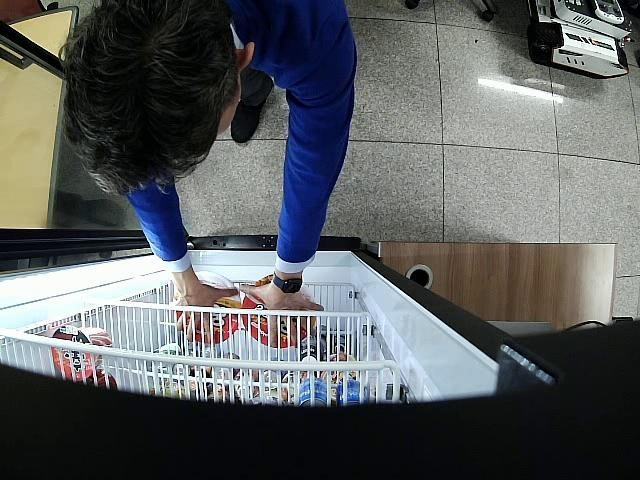10_wangTtukkeong: (242, 272, 320, 348), (177, 270, 240, 344)
